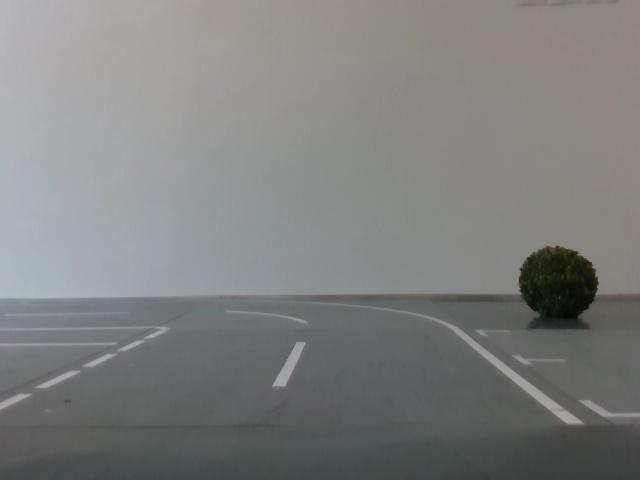potted plant: (518, 238, 601, 332)
